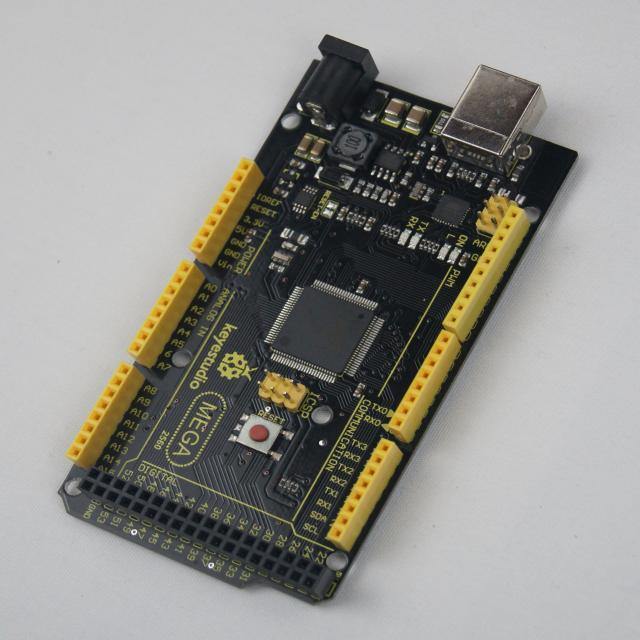Arduino Mega 2560 -Yellow-: (60, 36, 577, 603)
